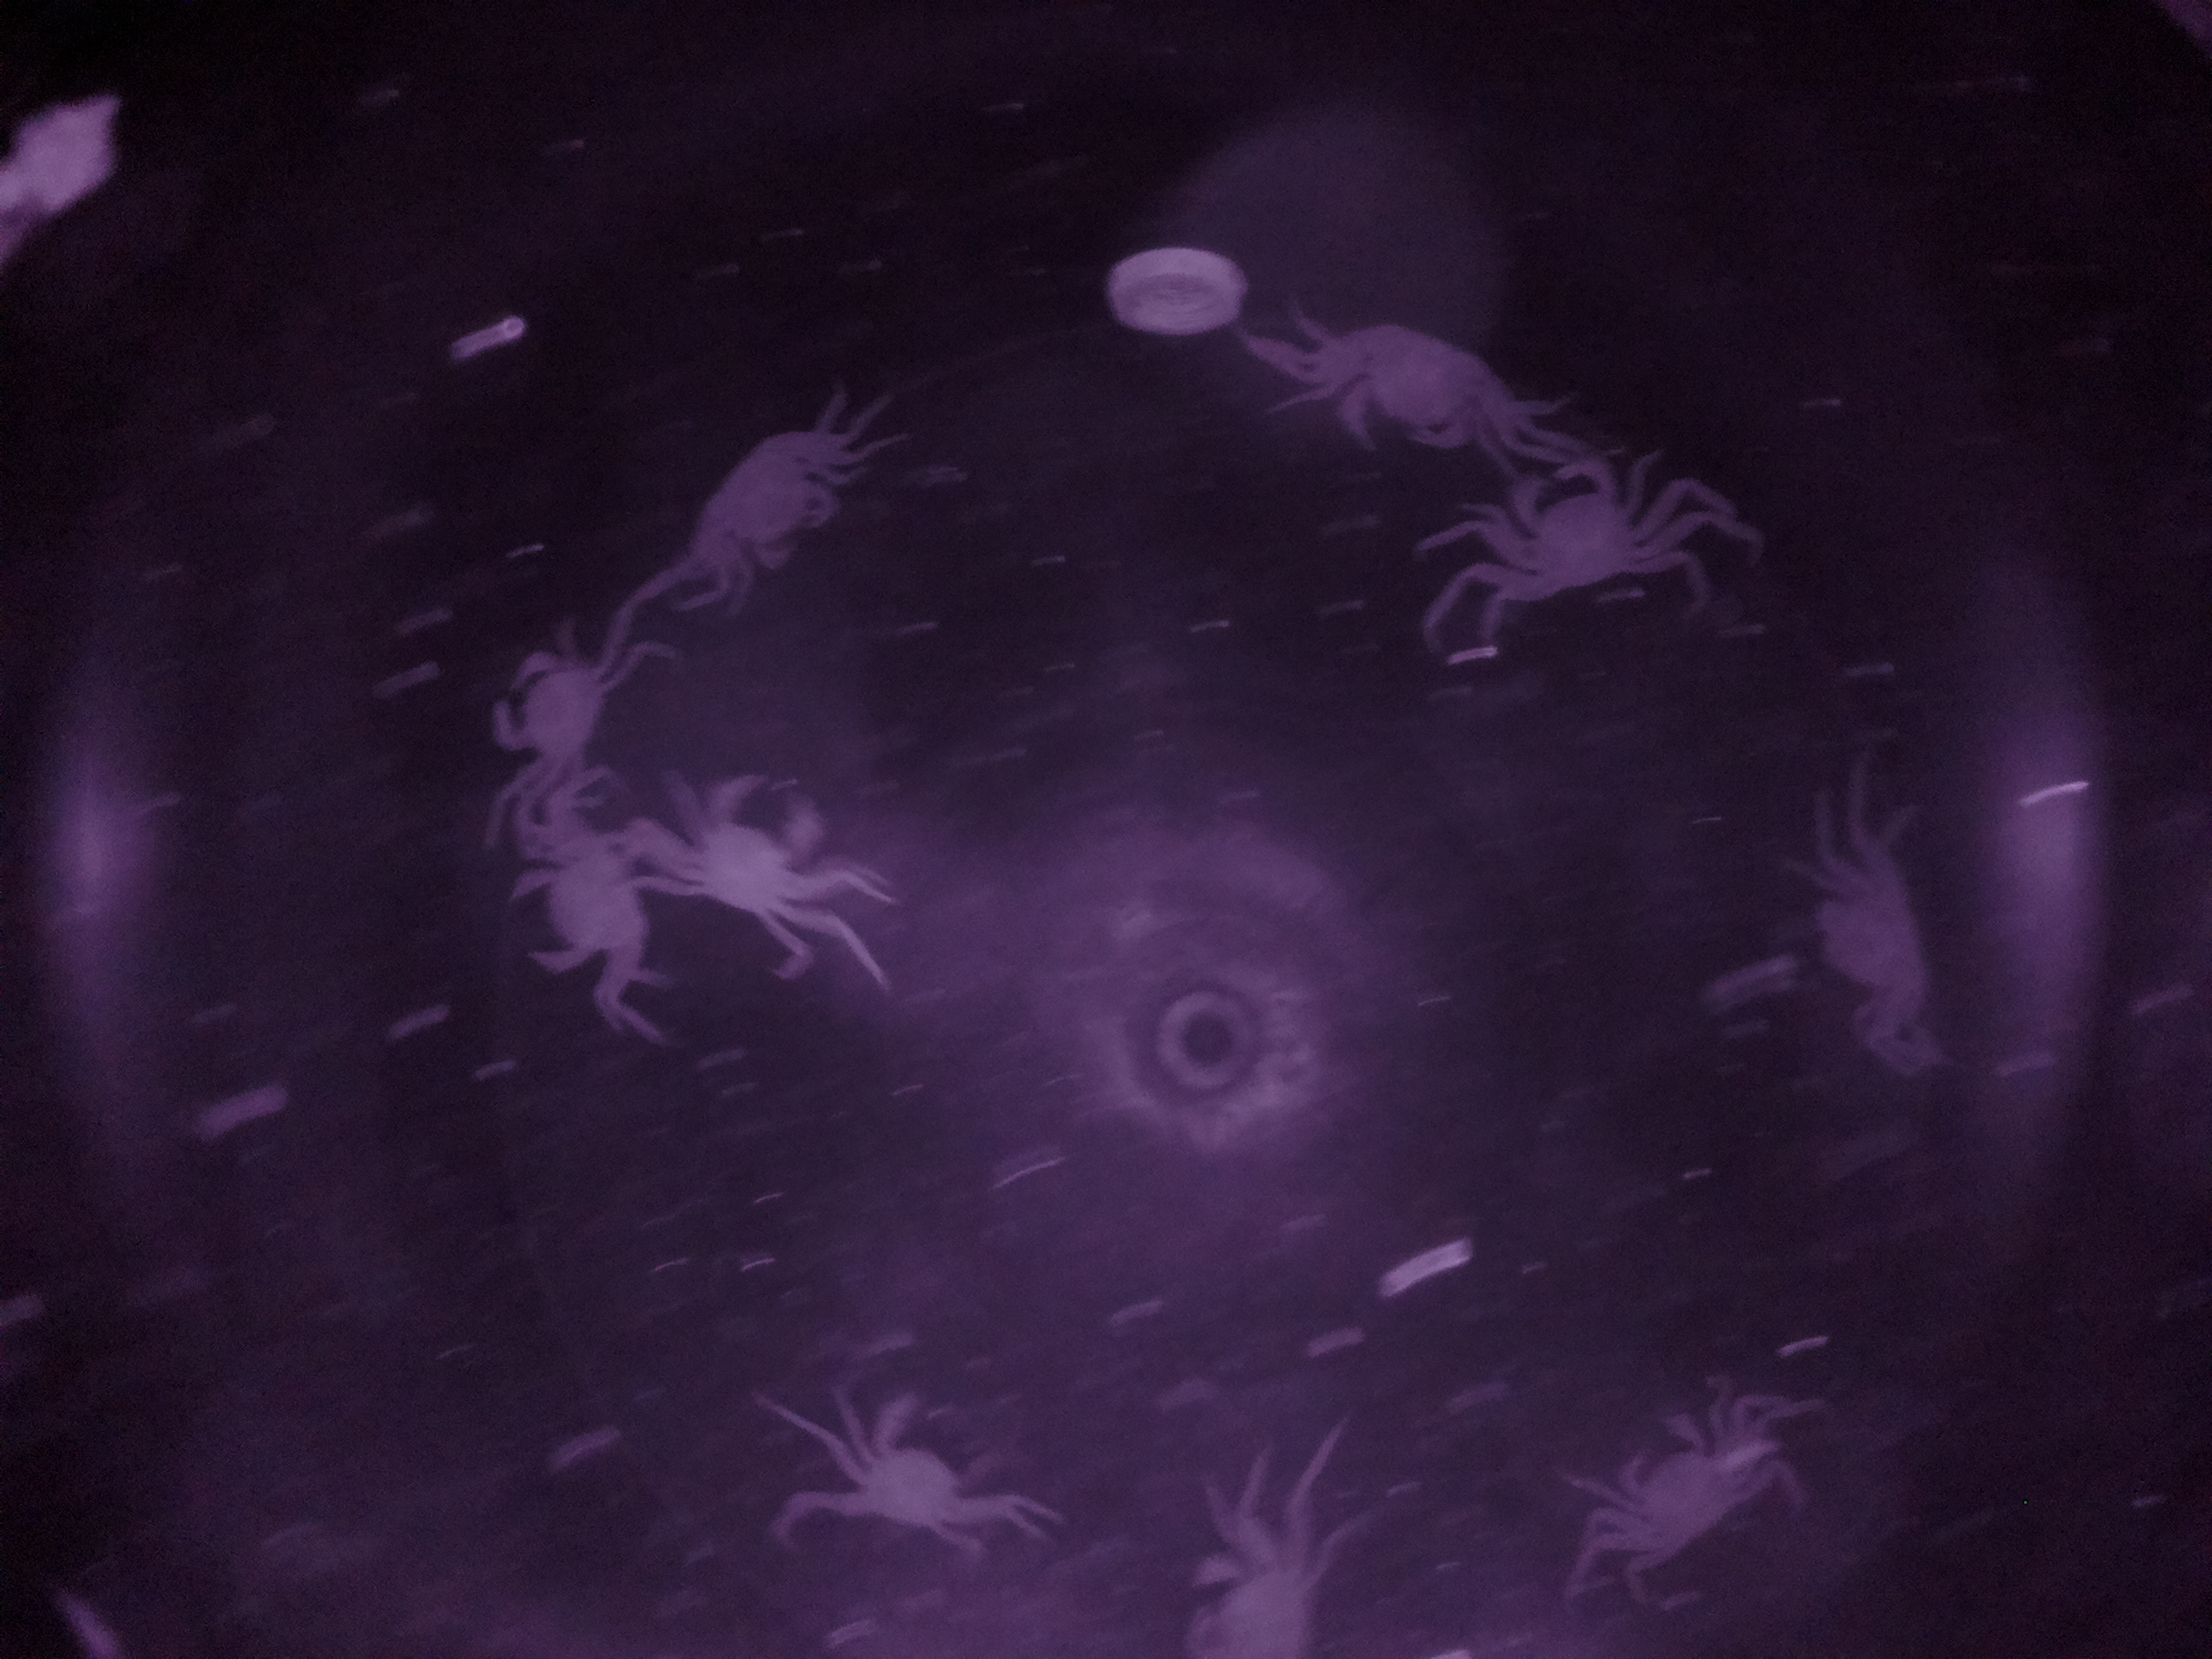Crab: (1456, 437, 1658, 636), (681, 416, 852, 606), (1587, 1406, 1766, 1584)
